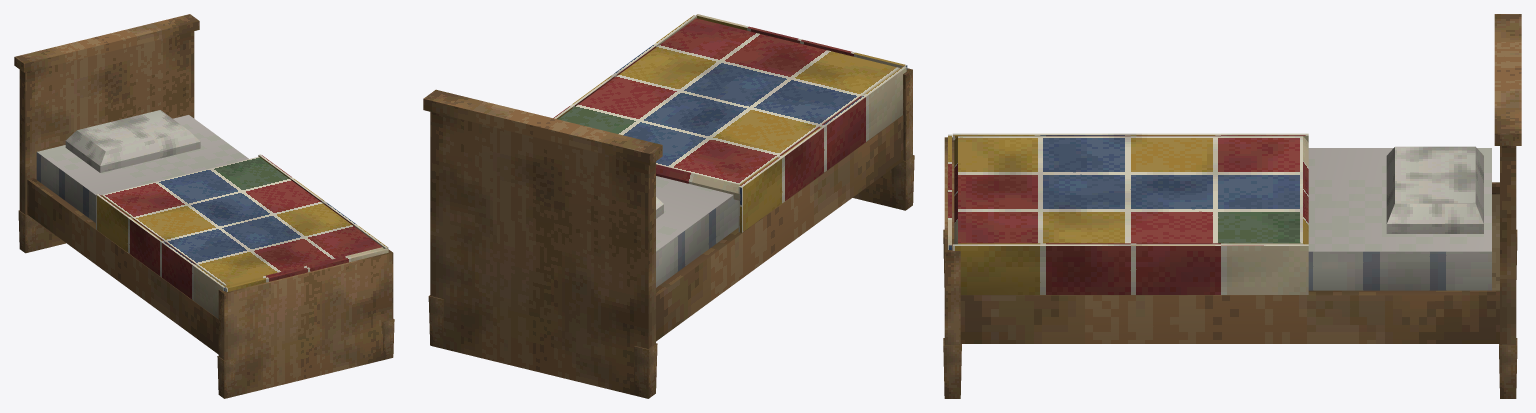
The model's file is bed_single_oak.glb.
3 renders of one model, left to right at view 1: azimuth 30°, elevation 25°; view 2: azimuth 150°, elevation 25°; view 3: azimuth 270°, elevation 25°, orthographic. The views are drawn at different scales.
Visible parts, largest first — view 1: bed_single_oak; view 2: bed_single_oak; view 3: bed_single_oak.
Part boxes in pixels (x1=…): bed_single_oak: x1=14, y1=14, x2=394, y2=398; bed_single_oak: x1=423, y1=14, x2=914, y2=398; bed_single_oak: x1=943, y1=14, x2=1521, y2=398.
Size of the model in its own units: 1.05 by 1.1 by 2.14.
1 material, 1 textured.
